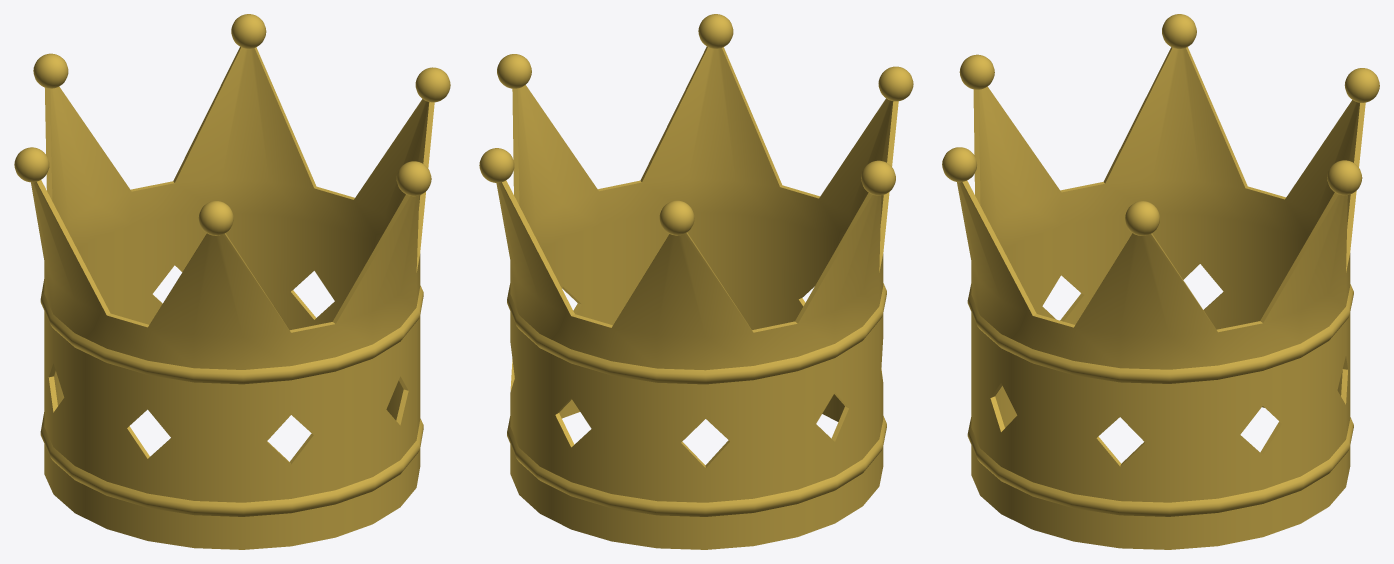
Rendered from D_QueenCrown.fbx.
The picture shows the model from 3 angles, left to right: view 1: azimuth 30°, elevation 25°; view 2: azimuth 150°, elevation 25°; view 3: azimuth 270°, elevation 25°; orthographic projection.
Parts seen in each view (by area): view 1: Crown; view 2: Crown; view 3: Crown.
Boxes of the visible parts, x1=… form: Crown: x1=14, y1=14, x2=450, y2=549; Crown: x1=479, y1=14, x2=913, y2=549; Crown: x1=942, y1=14, x2=1379, y2=549.
Bounding box in the file's own units: 46.99 × 39.31 × 43.09.
